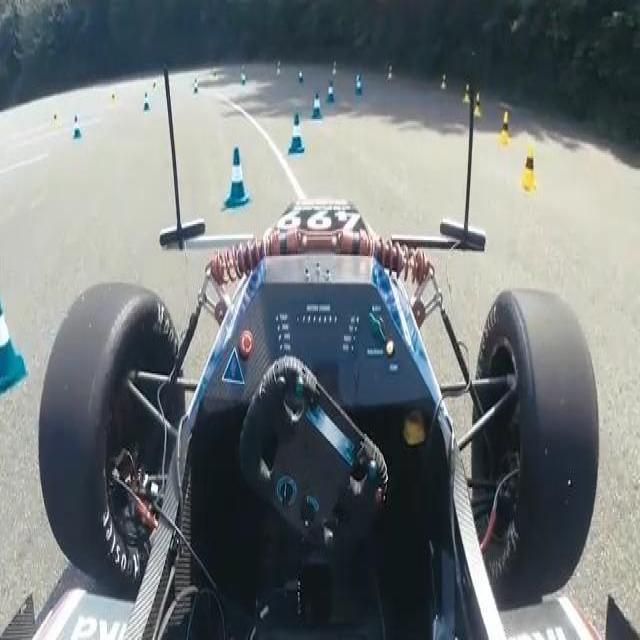blue_cone: (0, 281, 30, 395), (224, 146, 249, 207), (287, 110, 304, 156), (311, 91, 322, 123), (71, 114, 82, 141), (327, 78, 335, 104), (141, 90, 149, 112), (356, 78, 363, 102), (298, 68, 305, 89), (192, 76, 199, 95), (240, 75, 247, 93)
yellow_cone: (522, 140, 541, 193), (499, 112, 511, 147), (474, 93, 484, 116), (463, 82, 471, 104), (440, 70, 448, 92), (274, 55, 282, 77), (211, 67, 219, 88), (153, 78, 160, 99), (386, 61, 394, 79), (52, 110, 59, 129), (111, 89, 118, 107), (331, 59, 337, 76)
